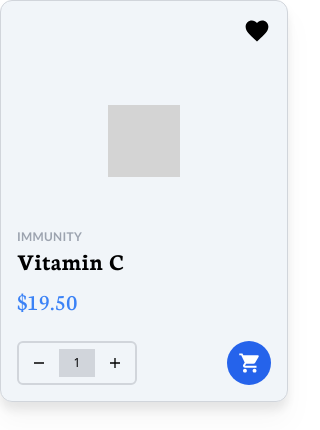
Test: ProductCard › tightens the cap after an add succeeds
What coordinates should you click on to do the following:
click the button named "Add Vitamin C to cart"
I would click on:
 (249, 363)
Its box is [227,341,271,385].
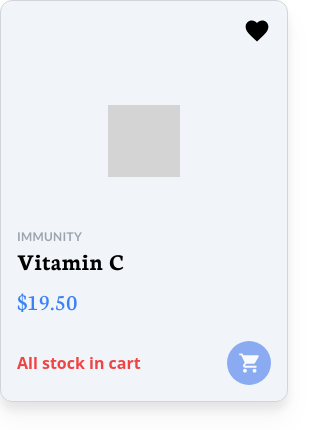
Check: the text "All stock in cart" is shown, box [17,351,141,375]
Check: the button named "Add Vitamin C to cart" is disabled, box [227,341,271,385]
